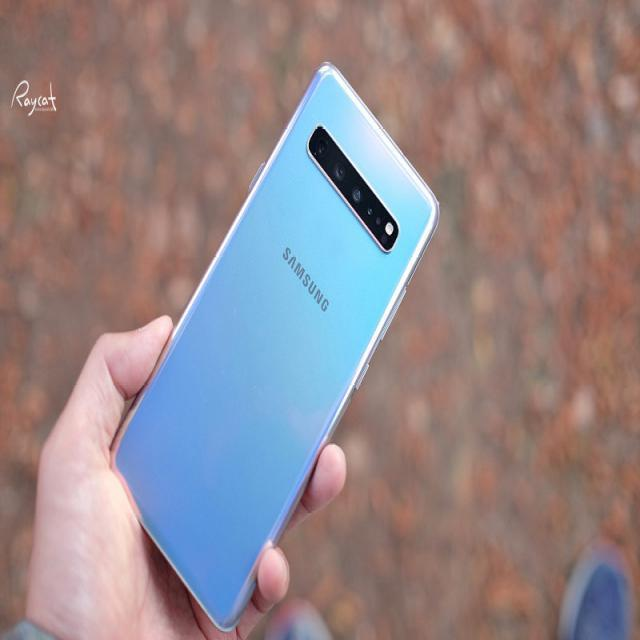lens: (309, 127, 400, 257)
phone: (105, 64, 443, 633)
